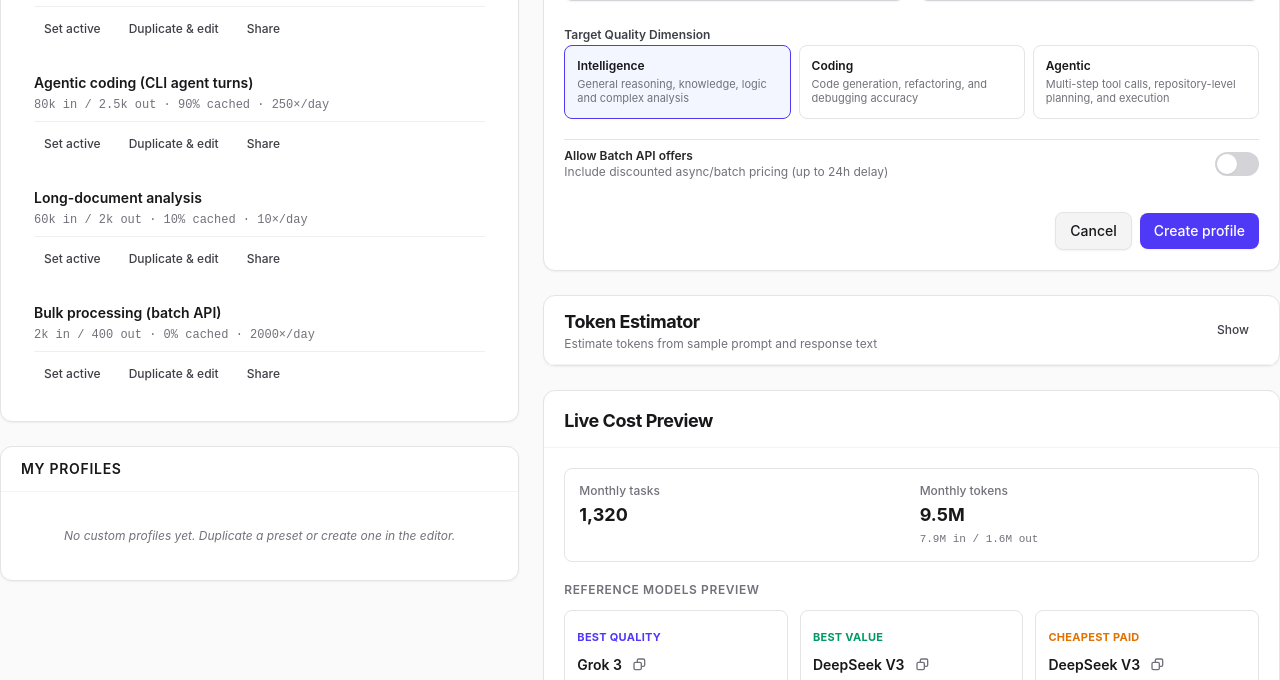
it: ProfilesPage › associates profile editor labels with their controls
(page scrolled)
Expected: the element named "target quality dimension" is shown, top-left (564, 45), bottom-right (1259, 118)
Expected: the switch named "allow batch api offers" is shown, top-left (1215, 152), bottom-right (1259, 176)
Step 1. Click the button "Show" → [1233, 330], box top-left (1207, 316), bottom-right (1259, 344)
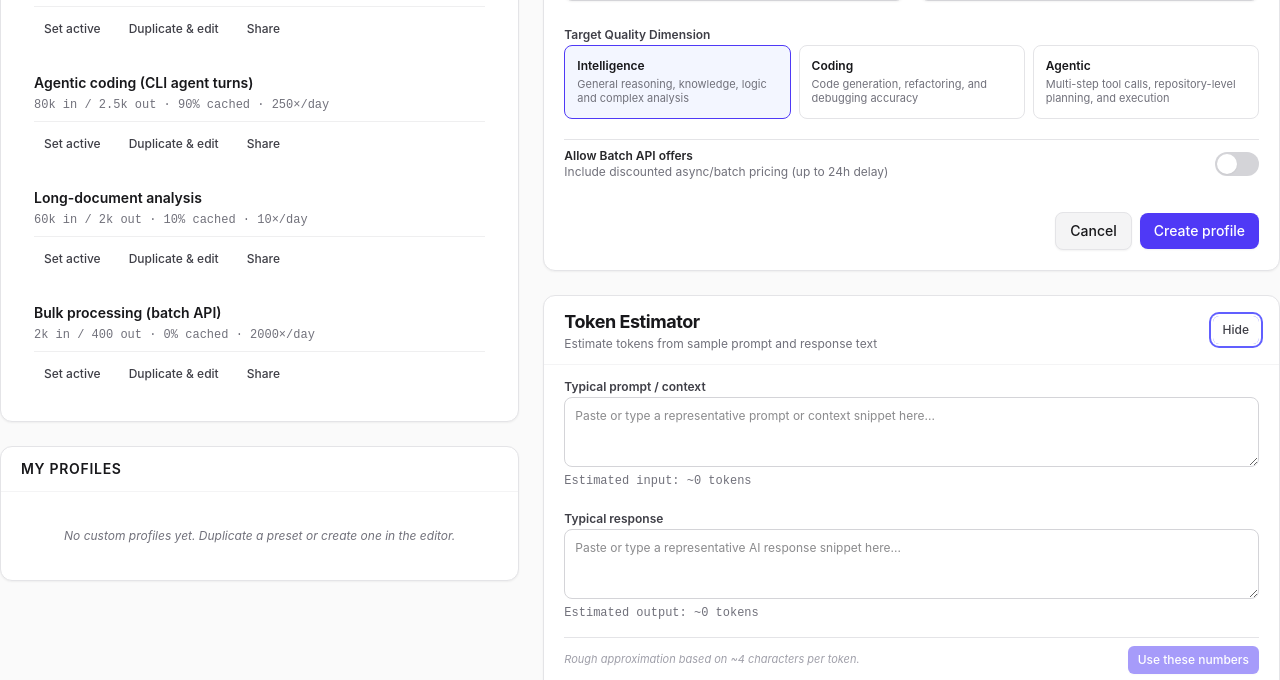
Expected: the text box labelled "Typical prompt / context" is shown, top-left (564, 396), bottom-right (1259, 466)
Expected: the text box labelled "Typical response" is shown, top-left (564, 528), bottom-right (1259, 598)
